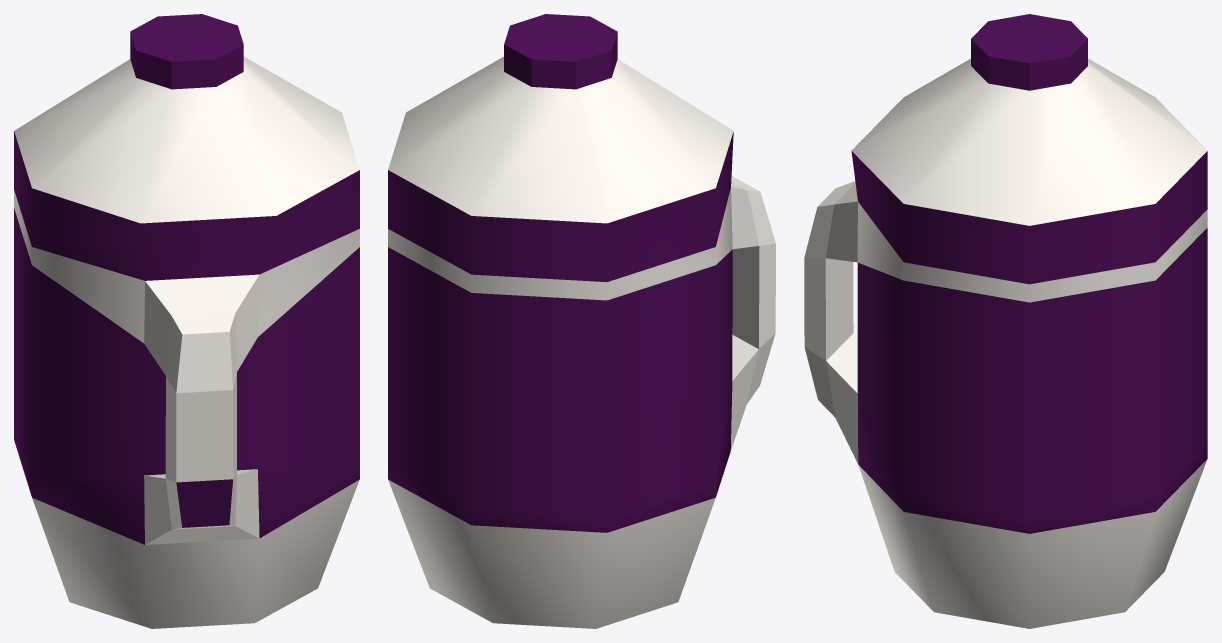
File: Produce_Jug.fbx
The picture shows the model from 3 angles, left to right: view 1: azimuth 30°, elevation 25°; view 2: azimuth 150°, elevation 25°; view 3: azimuth 270°, elevation 25°; orthographic projection.
Visible parts, largest first — view 1: Cylinder004; view 2: Cylinder004; view 3: Cylinder004.
Boxes of the visible parts, x1,y1,x2,y2 form: Cylinder004: [14, 14, 359, 628]; Cylinder004: [388, 14, 775, 628]; Cylinder004: [804, 14, 1207, 628].
Size of the model in its own units: 10.9 by 18 by 12.35.
